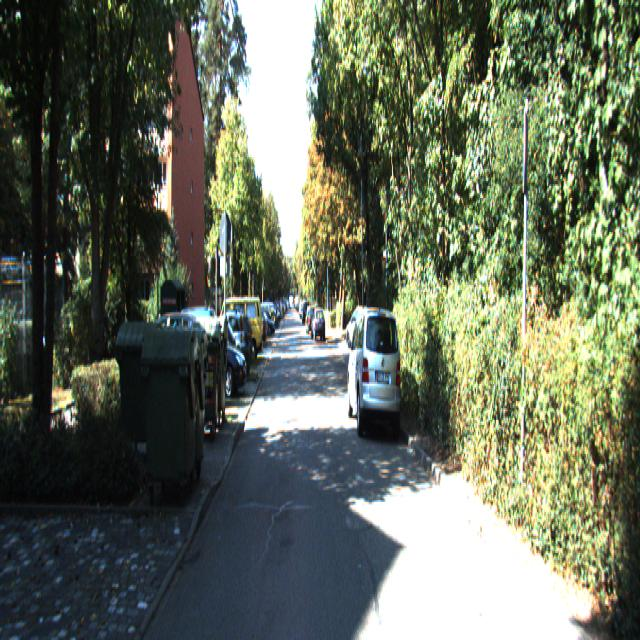Car: (344, 300, 402, 440), (180, 311, 247, 397), (216, 293, 262, 359), (205, 306, 245, 368), (311, 309, 326, 343)
